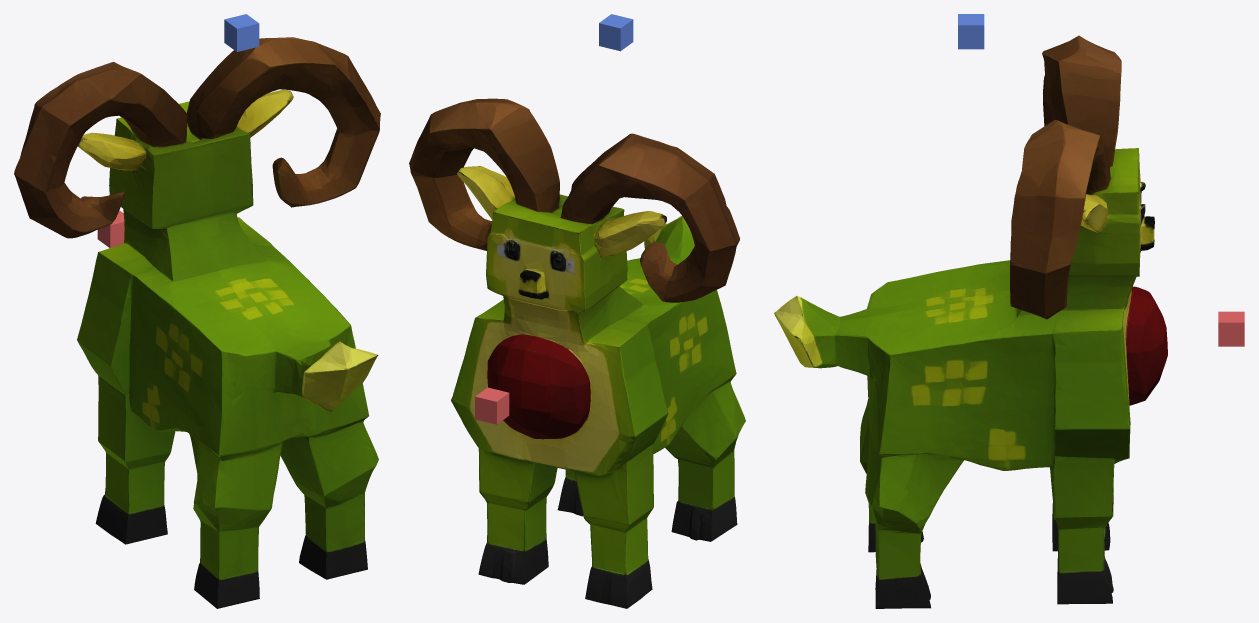
The model's file is CapraAvocadra.glb.
3 views of the same model, side by side, from view 1: azimuth 30°, elevation 25°; view 2: azimuth 150°, elevation 25°; view 3: azimuth 270°, elevation 25° (orthographic). The views are drawn at different scales.
Parts seen in each view (by area): view 1: CapraAvocadra_Body, CapraAvocadra_Leg1, CapraAvocadra_Leg2, CapraAvocadra_Top, CapraAvocadra_Front; view 2: CapraAvocadra_Body, CapraAvocadra_Leg2, CapraAvocadra_Front, CapraAvocadra_Top, CapraAvocadra_Leg1; view 3: CapraAvocadra_Body, CapraAvocadra_Leg1, CapraAvocadra_Front, CapraAvocadra_Top.
Part boxes in pixels (x1,y1,x2,y2): CapraAvocadra_Body: (14, 37, 380, 608); CapraAvocadra_Leg1: (280, 444, 378, 579); CapraAvocadra_Leg2: (95, 392, 175, 544); CapraAvocadra_Top: (224, 14, 259, 51); CapraAvocadra_Front: (97, 210, 124, 247); CapraAvocadra_Body: (409, 98, 745, 584); CapraAvocadra_Leg2: (575, 452, 653, 608); CapraAvocadra_Front: (475, 387, 509, 424); CapraAvocadra_Top: (599, 14, 633, 51); CapraAvocadra_Leg1: (557, 469, 583, 516); CapraAvocadra_Body: (774, 35, 1167, 604); CapraAvocadra_Leg1: (865, 454, 952, 608); CapraAvocadra_Front: (1218, 311, 1244, 346); CapraAvocadra_Top: (958, 14, 984, 49).
Size of the model in its own units: 3.94 by 5.72 by 4.44.
Materials: 1 (1 with a texture image).
